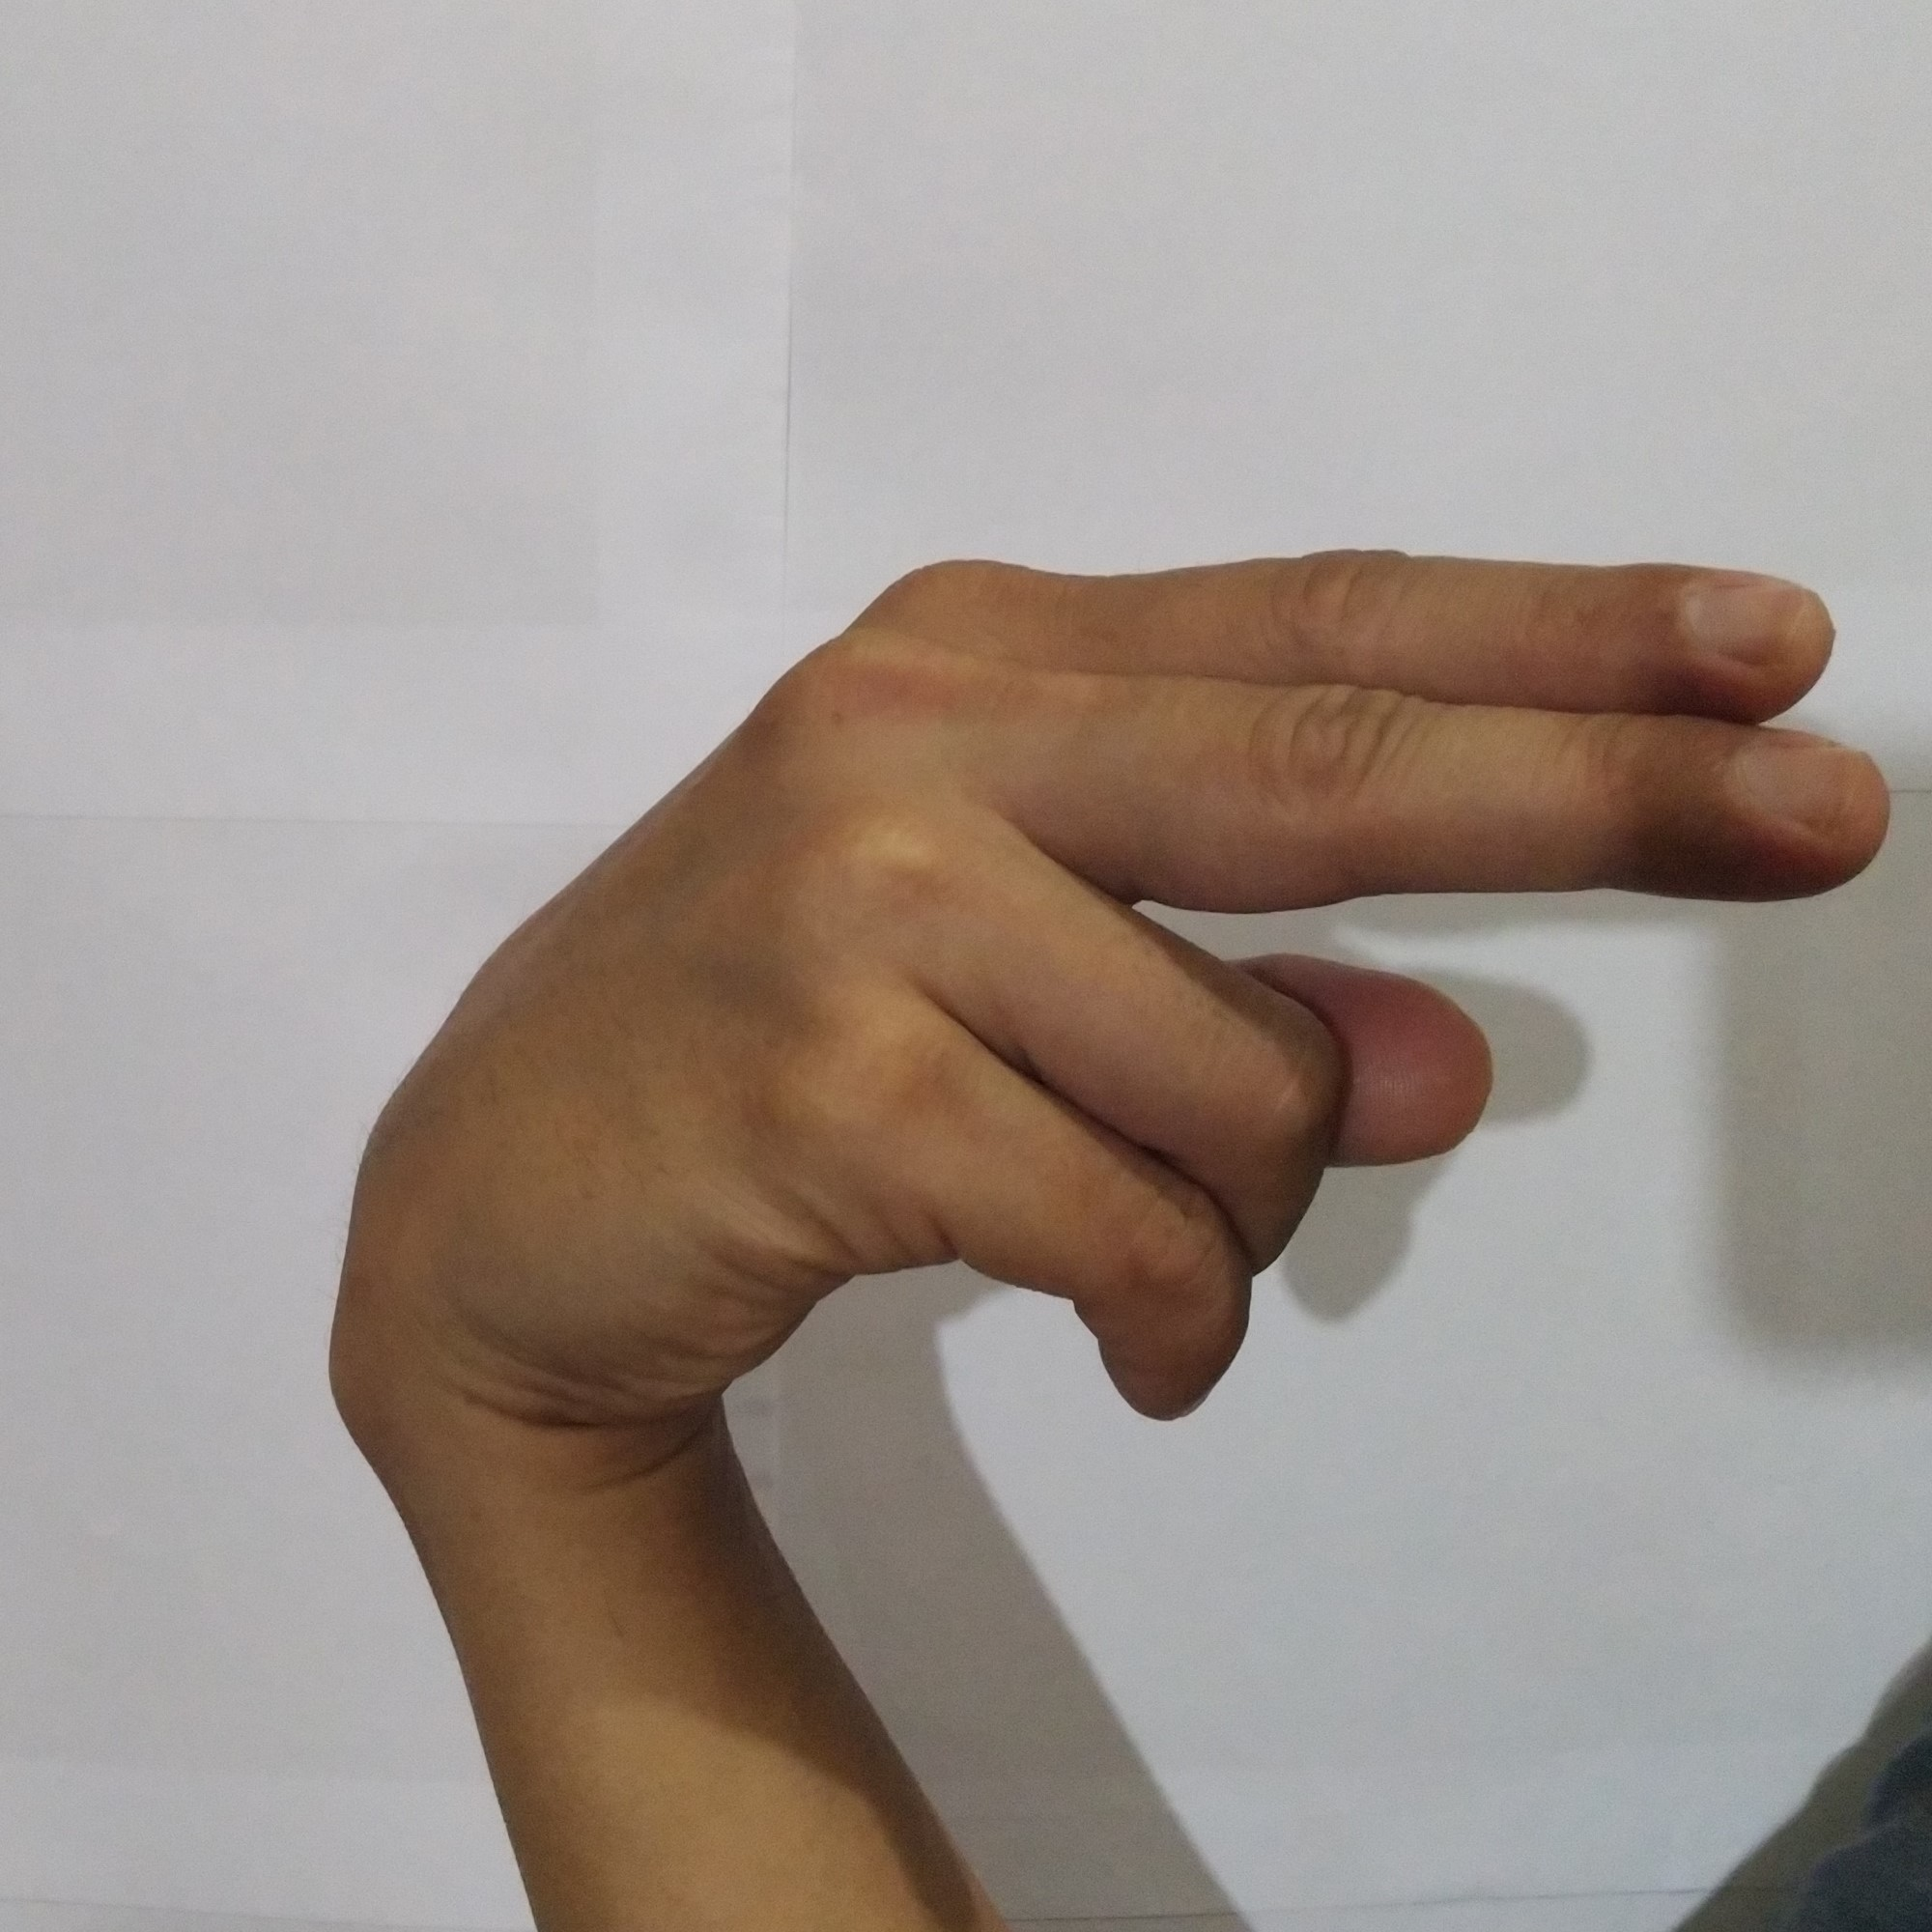H: (333, 520, 1905, 1437)
